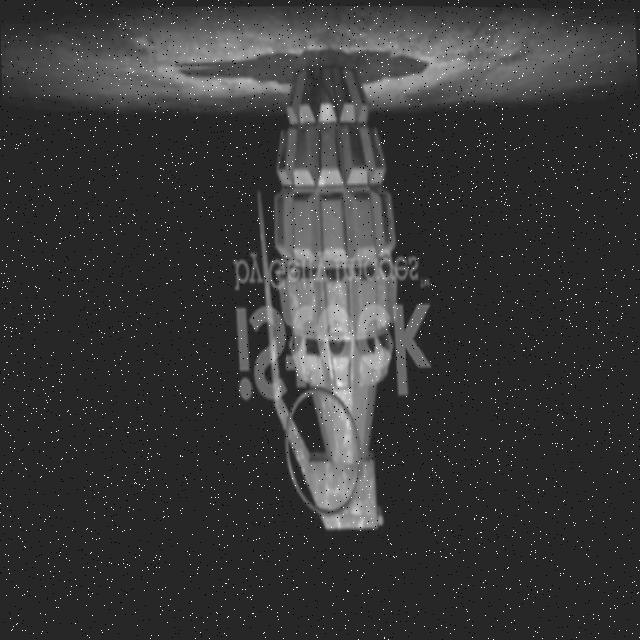grenade: (248, 58, 411, 542)
